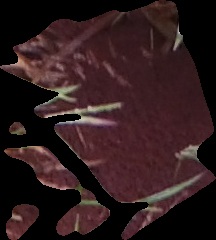soil: (1, 1, 216, 239)
